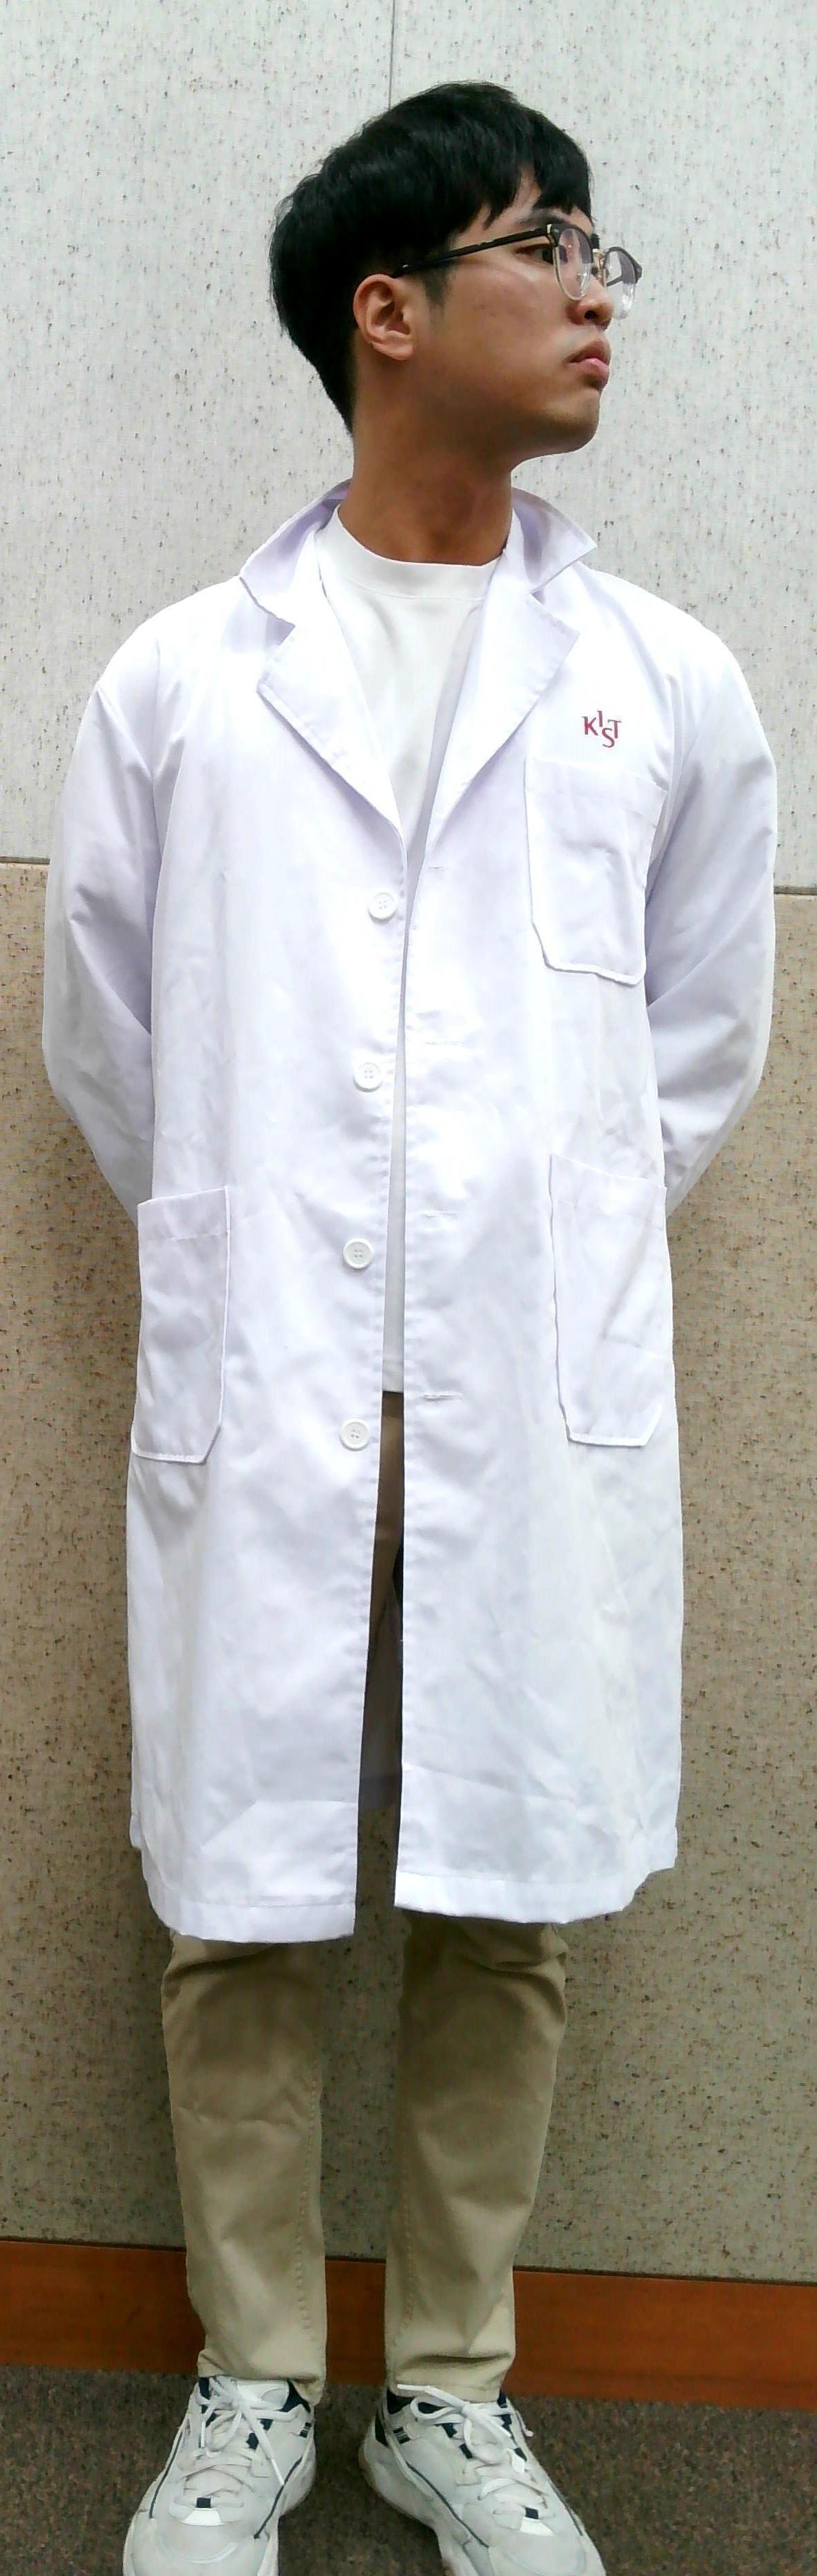lab_coat: (49, 531, 756, 1893)
